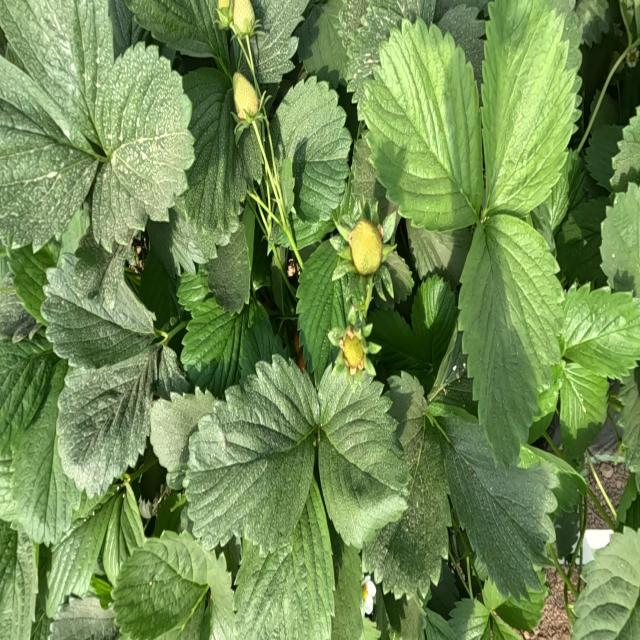Flowers: (362, 576, 375, 614)
Leaves: (358, 20, 481, 231), (461, 213, 562, 465), (186, 357, 316, 552), (430, 402, 555, 600), (482, 0, 581, 218), (94, 47, 195, 245), (0, 57, 99, 250), (0, 0, 114, 149), (1, 334, 79, 542), (320, 365, 408, 547), (57, 346, 157, 495), (234, 500, 335, 639), (181, 69, 261, 235), (41, 253, 154, 367), (378, 434, 451, 598), (313, 0, 435, 89), (277, 78, 351, 221), (115, 531, 209, 639), (297, 241, 368, 377), (562, 285, 639, 378), (48, 492, 115, 596), (181, 299, 242, 392), (127, 0, 224, 58), (150, 391, 215, 472), (532, 152, 585, 249), (521, 445, 588, 518), (148, 206, 217, 275), (249, 1, 307, 83), (74, 231, 126, 319), (411, 274, 457, 372), (208, 210, 252, 312), (560, 364, 607, 458), (0, 520, 37, 639), (600, 185, 639, 297), (570, 578, 639, 639), (557, 199, 607, 283), (405, 223, 471, 286), (368, 309, 426, 380), (437, 5, 485, 80), (240, 301, 283, 378), (583, 528, 639, 587), (10, 247, 52, 325), (49, 594, 119, 639), (492, 578, 547, 631), (332, 545, 363, 639), (586, 124, 622, 189), (618, 377, 640, 481), (351, 137, 385, 204), (611, 113, 639, 188), (156, 347, 190, 399), (121, 481, 145, 553), (449, 598, 490, 639), (482, 579, 506, 612)
Strawberries: (350, 221, 381, 275), (233, 73, 259, 118), (341, 332, 363, 371), (233, 1, 255, 34), (217, 0, 233, 27)
